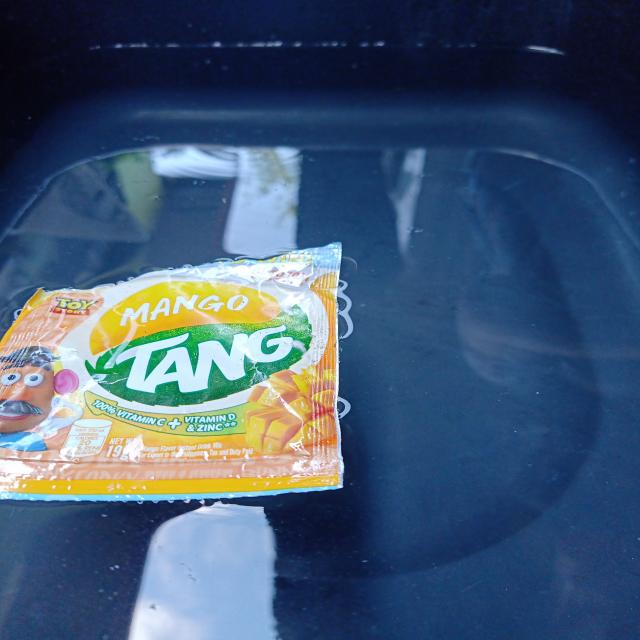Plastic Wrapper: (0, 243, 343, 501)
